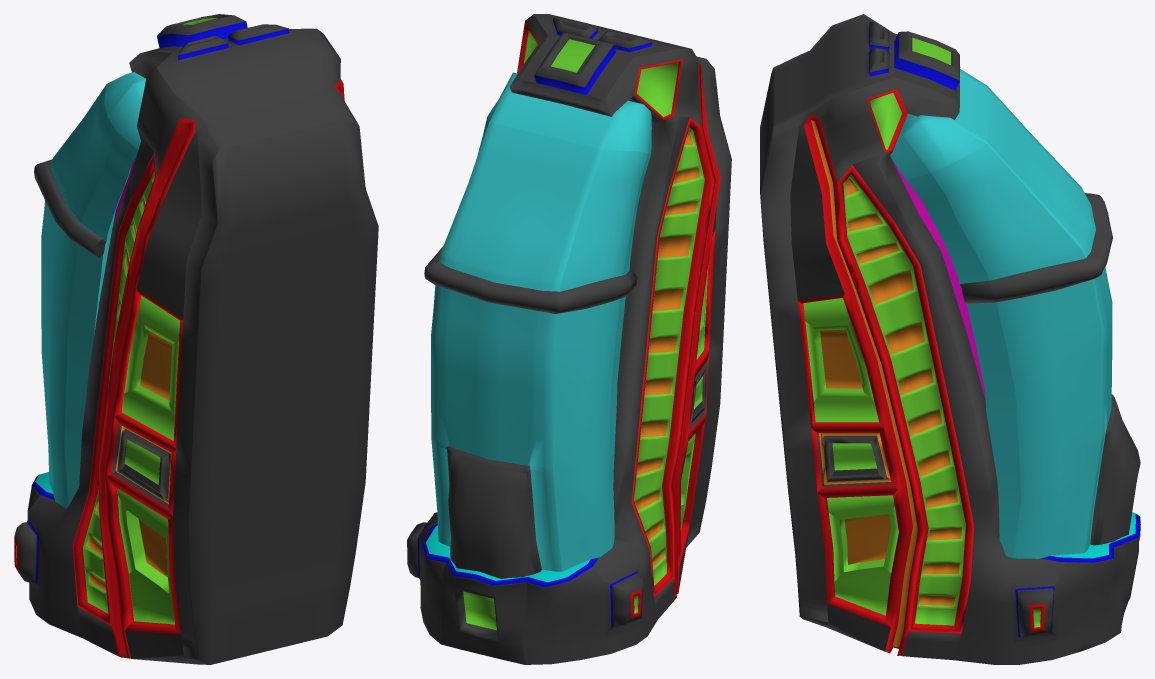
3 views of the same model, side by side, from view 1: azimuth 30°, elevation 25°; view 2: azimuth 150°, elevation 25°; view 3: azimuth 270°, elevation 25° (orthographic). The views are drawn at different scales.
Visible parts, largest first — view 1: Chamber_LowPoly (×5), Glass (×2); view 2: Glass (×2), Chamber_LowPoly (×6); view 3: Chamber_LowPoly (×7), Glass (×2).
Boxes of the visible parts, <box> form: Chamber_LowPoly (×5): <box>14,14,378,664</box>; Glass (×2): <box>34,72,145,508</box>; Glass (×2): <box>424,72,651,578</box>; Chamber_LowPoly (×6): <box>407,14,731,664</box>; Chamber_LowPoly (×7): <box>760,14,1140,664</box>; Glass (×2): <box>890,69,1140,558</box>.
Bounding box in the file's own units: 0.8885 × 2 × 1.21.
